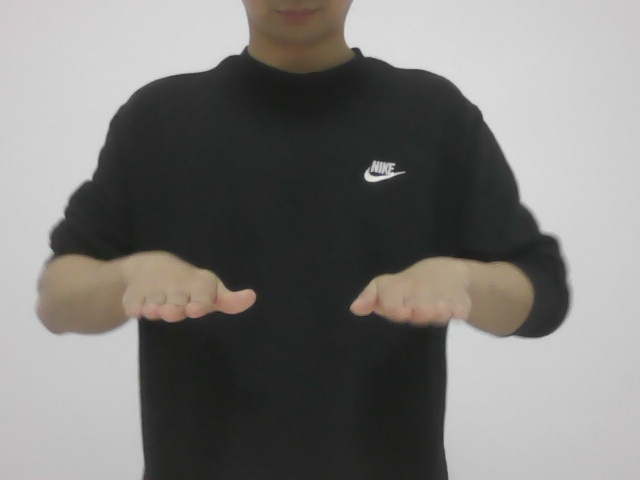flat: (111, 242, 473, 341)
